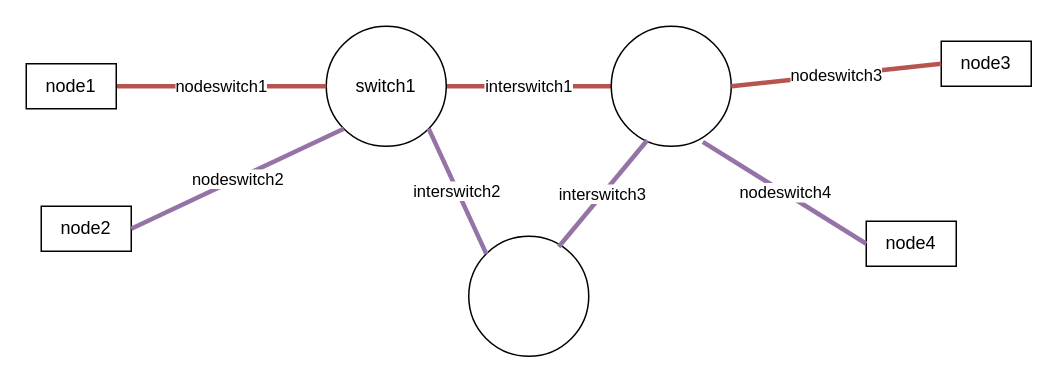
Image size: 1058x383. Some labels were removed from this diagram. Each missing label, with the centre of its shape:
"switch2" goes at point 670,85.
"switch3" goes at point 528,295.
